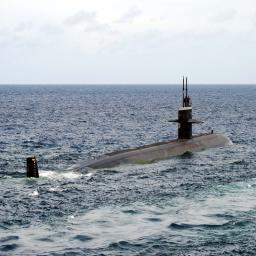submarine: (28, 77, 235, 178)
